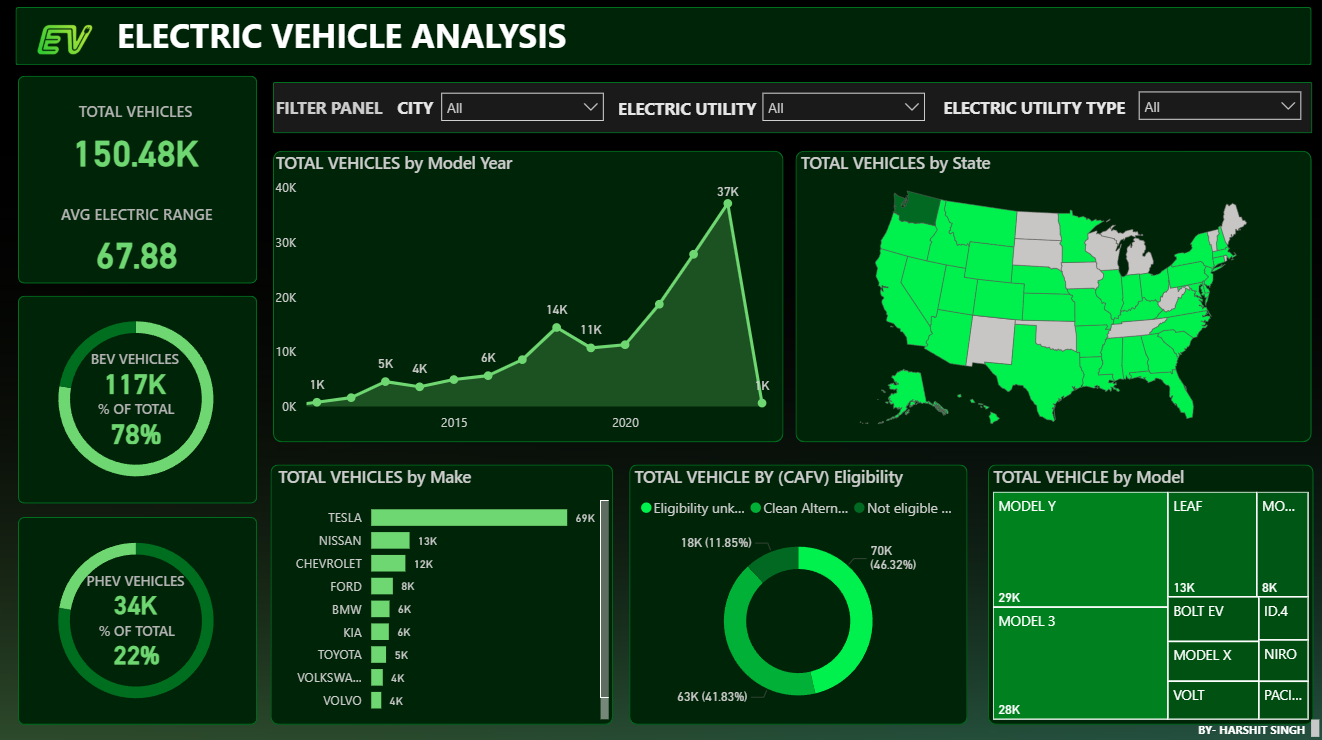

The dashboard page shown, as its layout file describes it:
{"tool":"powerbi","page":{"name":"Page 1","canvas":[1280,720],"ordinal":0},"visuals":[{"type":"shape","box":[17.3,10.1,1250.9,56.3],"z":0},{"type":"textbox","box":[109.8,9.6,466.6,54.9],"z":1000},{"type":"shape","box":[18.8,76.5,230.8,200.5],"z":2000},{"type":"card","title":"TOTAL VEHICLES","fields":{"Values":["Electric_Vehicle_Population_Data.TOTAL VECHICLES"]},"box":[17.8,99.7,229.6,76.5],"z":3000},{"type":"card","title":"AVG ELECTRIC RANGE","fields":{"Values":["Avg(Electric_Vehicle_Population_Data.Electric Range)"]},"box":[18.8,199.1,229.4,76.5],"z":4000},{"type":"shape","box":[18.8,288.6,230.8,200.5],"z":5000},{"type":"shape","box":[18.8,502.1,230.8,200.5],"z":6000},{"type":"donutChart","fields":{"Category":["Electric_Vehicle_Population_Data.Electric Vehicle Type"],"Y":["Electric_Vehicle_Population_Data.TOTAL VECHICLES"]},"box":[3.8,272.7,259.4,230.8],"z":7000},{"type":"card","title":"BEV VEHICLES","fields":{"Values":["Electric_Vehicle_Population_Data.BEV VEHICLES"]},"box":[55.5,340.2,153.2,48.3],"z":8000},{"type":"card","title":"% OF TOTAL","fields":{"Values":["Electric_Vehicle_Population_Data.% of BEV"]},"box":[56.7,388.5,153.2,48.3],"z":9000},{"type":"donutChart","fields":{"Category":["Electric_Vehicle_Population_Data.Electric Vehicle Type"],"Y":["Electric_Vehicle_Population_Data.TOTAL VECHICLES"]},"box":[3.6,486.2,259.4,231.6],"z":10000},{"type":"card","title":"PHEV VEHICLES","fields":{"Values":["Electric_Vehicle_Population_Data.PHEV VEHICLES"]},"box":[55.5,553.8,154.4,48.3],"z":11000},{"type":"card","title":"% OF TOTAL","fields":{"Values":["Electric_Vehicle_Population_Data.% of PHEV"]},"box":[56.7,602,154.4,48.3],"z":12000},{"type":"shape","box":[264.8,82.3,1003.1,49.4],"z":13000},{"type":"shape","box":[264.8,148.2,492.6,281.3],"z":14000},{"type":"areaChart","title":"TOTAL VEHICLES by Model Year","fields":{"Category":["Electric_Vehicle_Population_Data.Model Year"],"Y":["Electric_Vehicle_Population_Data.TOTAL VECHICLES"]},"box":[263.5,148.2,492.6,281.3],"z":15000},{"type":"shape","box":[769.8,148.2,498.1,281.3],"z":16000},{"type":"shapeMap","title":"TOTAL VEHICLES by State","fields":{"Category":["Electric_Vehicle_Population_Data.State"],"Value":["Electric_Vehicle_Population_Data.TOTAL VECHICLES"]},"box":[769.8,148.2,498.1,281.3],"z":17000},{"type":"shape","box":[263.5,451.5,330.7,251.1],"z":18000},{"type":"barChart","title":"TOTAL VEHICLES by Make","fields":{"Category":["Electric_Vehicle_Population_Data.Make"],"Y":["Electric_Vehicle_Population_Data.TOTAL VECHICLES"]},"box":[264.8,451.5,329.3,251.1],"z":19000},{"type":"shape","box":[609.3,451.5,326.6,251.1],"z":20000},{"type":"donutChart","title":"TOTAL VEHICLE BY (CAFV) Eligibility","fields":{"Category":["Electric_Vehicle_Population_Data.Clean Alternative Fuel Vehicle (CAFV) Eligibility"],"Y":["Electric_Vehicle_Population_Data.TOTAL VECHICLES"]},"box":[609.3,451.5,326.6,251.1],"z":21000},{"type":"shape","box":[955.1,451.5,314.2,251.1],"z":22000},{"type":"treemap","title":"TOTAL VEHICLE by Model","fields":{"Group":["Electric_Vehicle_Population_Data.Model"],"Values":["Electric_Vehicle_Population_Data.TOTAL VECHICLES"]},"box":[955.1,451.5,314.2,251.1],"z":23000},{"type":"textbox","box":[263.5,90.6,129,34.3],"z":24000},{"type":"slicer","fields":{"Values":["Electric_Vehicle_Population_Data.City"]},"box":[417.2,82.3,177,49.4],"z":25000},{"type":"textbox","box":[374.6,90.6,54.9,34.3],"z":26000},{"type":"slicer","fields":{"Values":["Electric_Vehicle_Population_Data.Electric Utility"]},"box":[727.3,82.3,177,50.8],"z":27000},{"type":"textbox","box":[592.8,91.7,145.5,34.3],"z":28000},{"type":"textbox","box":[904.3,90.6,190.7,32.9],"z":29000},{"type":"slicer","fields":{"Values":["Electric_Vehicle_Population_Data.Electric Vehicle Type"]},"box":[1090.9,81,177,50.8],"z":30000},{"type":"image","box":[19.2,0,90.6,82.3],"z":31000},{"type":"textbox","box":[1147,693,133,27],"z":32000}]}

Visuals, with their boxes in screenshot pixels (x1, y1, x2, y2), scaled from the page's 1280x720 canvas onto the 1322x740 screenshot:
shape: bbox=(18, 10, 1310, 68)
textbox: bbox=(113, 10, 595, 66)
shape: bbox=(19, 79, 258, 285)
"TOTAL VEHICLES" card: bbox=(18, 102, 256, 181)
"AVG ELECTRIC RANGE" card: bbox=(19, 205, 256, 283)
shape: bbox=(19, 297, 258, 503)
shape: bbox=(19, 516, 258, 722)
donutChart - Electric_Vehicle_Population_Data.Electric Vehicle Type x Electric_Vehicle_Population_Data.TOTAL VECHICLES: bbox=(4, 280, 272, 517)
"BEV VEHICLES" card: bbox=(57, 350, 216, 399)
"% OF TOTAL" card: bbox=(59, 399, 217, 449)
donutChart - Electric_Vehicle_Population_Data.Electric Vehicle Type x Electric_Vehicle_Population_Data.TOTAL VECHICLES: bbox=(4, 500, 272, 738)
"PHEV VEHICLES" card: bbox=(57, 569, 217, 619)
"% OF TOTAL" card: bbox=(59, 619, 218, 668)
shape: bbox=(273, 85, 1310, 135)
shape: bbox=(273, 152, 782, 441)
"TOTAL VEHICLES by Model Year" areaChart: bbox=(272, 152, 781, 441)
shape: bbox=(795, 152, 1310, 441)
"TOTAL VEHICLES by State" shapeMap: bbox=(795, 152, 1310, 441)
shape: bbox=(272, 464, 614, 722)
"TOTAL VEHICLES by Make" barChart: bbox=(273, 464, 614, 722)
shape: bbox=(629, 464, 967, 722)
"TOTAL VEHICLE BY (CAFV) Eligibility" donutChart: bbox=(629, 464, 967, 722)
shape: bbox=(986, 464, 1311, 722)
"TOTAL VEHICLE by Model" treemap: bbox=(986, 464, 1311, 722)
textbox: bbox=(272, 93, 405, 128)
slicer - Electric_Vehicle_Population_Data.City: bbox=(431, 85, 614, 135)
textbox: bbox=(387, 93, 444, 128)
slicer - Electric_Vehicle_Population_Data.Electric Utility: bbox=(751, 85, 934, 137)
textbox: bbox=(612, 94, 763, 130)
textbox: bbox=(934, 93, 1131, 127)
slicer - Electric_Vehicle_Population_Data.Electric Vehicle Type: bbox=(1127, 83, 1310, 135)
image: bbox=(20, 0, 113, 85)
textbox: bbox=(1185, 712, 1321, 739)
